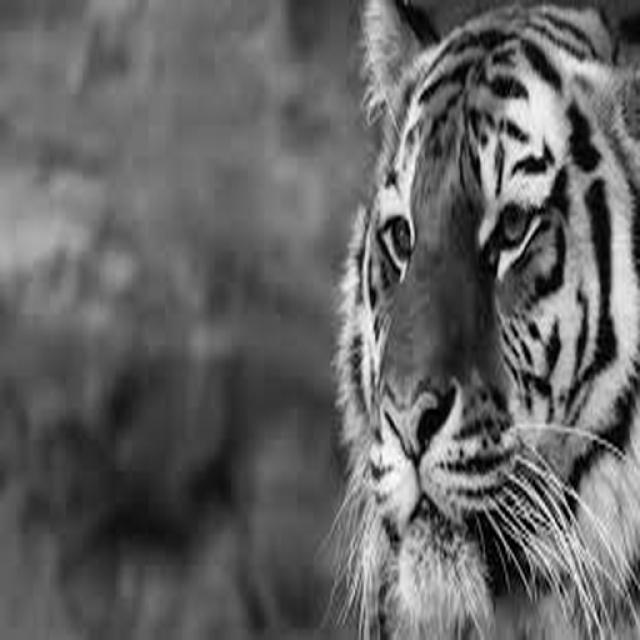Tiger: (317, 0, 638, 639)
